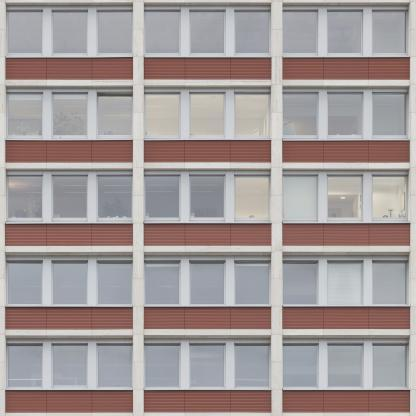Building Outline: (1, 1, 416, 416)
Facade: (0, 1, 416, 416)
Floor: (1, 335, 416, 413), (1, 3, 416, 80), (1, 252, 416, 329), (1, 170, 416, 247), (1, 86, 416, 163)
Floor Slab: (1, 246, 416, 252), (1, 329, 416, 335), (1, 163, 416, 168), (1, 80, 416, 85), (1, 412, 416, 416), (1, 0, 416, 3)
Pillar: (133, 0, 144, 416), (271, 0, 282, 416), (0, 0, 6, 416), (410, 0, 416, 416)
Window: (282, 335, 410, 413), (6, 335, 133, 413), (144, 335, 271, 413), (282, 3, 410, 80), (282, 86, 410, 163), (282, 169, 410, 246), (282, 252, 410, 329), (6, 3, 133, 80), (144, 3, 271, 80), (6, 86, 133, 163), (144, 86, 271, 163), (6, 169, 133, 246), (144, 169, 271, 246), (6, 252, 133, 329), (144, 252, 271, 329), (6, 343, 43, 389), (96, 343, 133, 389), (144, 343, 181, 389), (189, 343, 226, 389), (234, 343, 271, 389), (282, 343, 319, 389), (6, 10, 43, 56), (96, 10, 133, 56), (144, 10, 181, 56), (189, 10, 226, 56), (234, 10, 271, 56), (282, 10, 319, 56), (6, 92, 43, 138), (96, 92, 133, 138), (144, 92, 181, 138), (189, 92, 226, 138), (234, 92, 271, 138), (282, 92, 319, 138), (6, 175, 43, 221), (96, 175, 133, 221), (144, 175, 181, 221), (189, 175, 226, 221), (234, 175, 271, 221), (282, 175, 319, 221), (6, 260, 43, 306), (96, 260, 133, 306), (144, 260, 181, 306), (189, 260, 226, 306), (234, 260, 271, 306), (282, 260, 319, 306), (372, 343, 408, 389), (52, 343, 88, 389), (327, 343, 363, 389), (372, 10, 408, 56), (52, 10, 88, 56), (327, 10, 363, 56), (372, 92, 408, 138), (52, 92, 88, 138), (327, 92, 363, 138), (372, 175, 408, 221), (52, 175, 88, 221), (327, 175, 363, 221), (372, 260, 408, 306), (52, 260, 88, 306), (327, 260, 363, 306)
